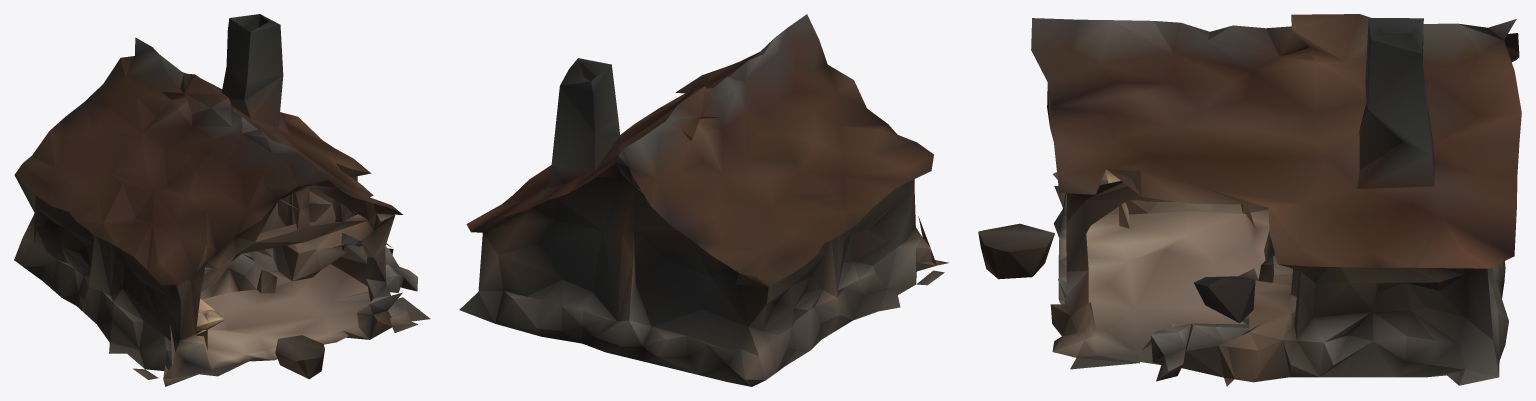
Rendered from bq_forge.vc2.glb.
3 renders of one model, left to right at view 1: azimuth 30°, elevation 25°; view 2: azimuth 150°, elevation 25°; view 3: azimuth 270°, elevation 25°, orthographic. The views are drawn at different scales.
Visible parts, largest first — view 1: bq_forge; view 2: bq_forge; view 3: bq_forge.
Part boxes in pixels (bbox=[...]): bq_forge: bbox=[14, 14, 430, 386]; bq_forge: bbox=[459, 14, 948, 386]; bq_forge: bbox=[978, 14, 1521, 386].
Bounding box in the file's own units: 1.67 × 1.17 × 1.88.
